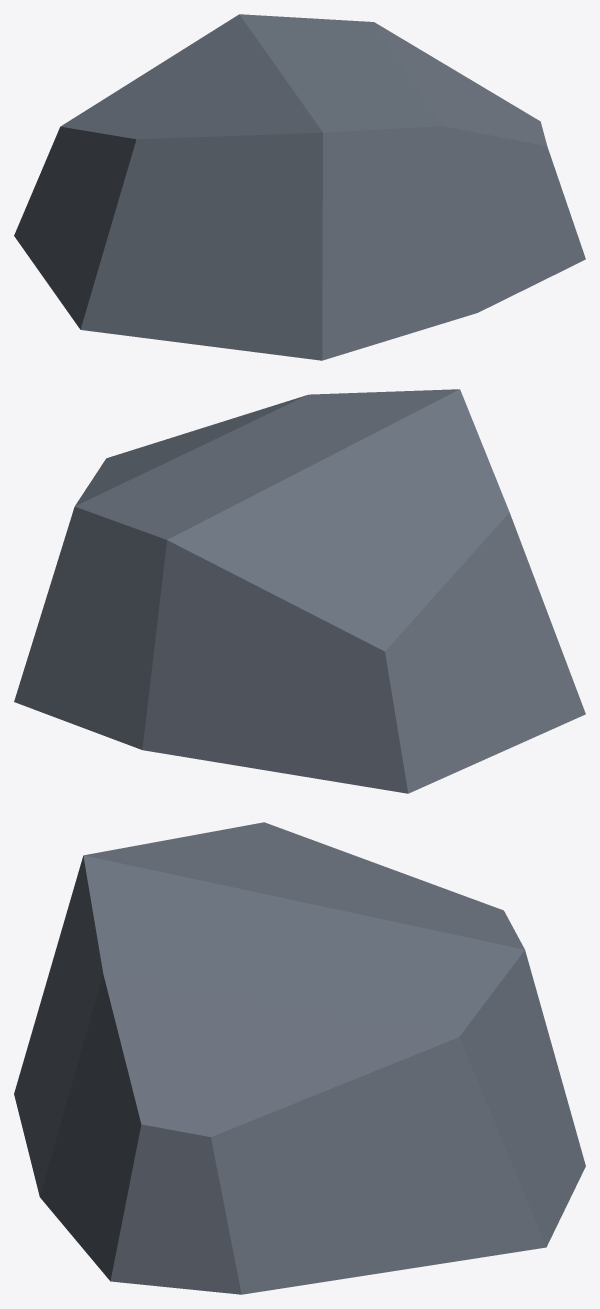
The model's file is RockMedium.fbx.
The picture shows the model from 3 angles, top to bottom: view 1: azimuth 30°, elevation 25°; view 2: azimuth 150°, elevation 25°; view 3: azimuth 270°, elevation 25°; orthographic projection. The views are drawn at different scales.
Parts seen in each view (by area): view 1: RockMedium; view 2: RockMedium; view 3: RockMedium.
Part boxes in pixels (x1,y1,x2,y2): RockMedium: (14,14,585,360); RockMedium: (14,389,585,793); RockMedium: (14,822,585,1294).
Bounding box in the file's own units: 124 × 50.46 × 102.
